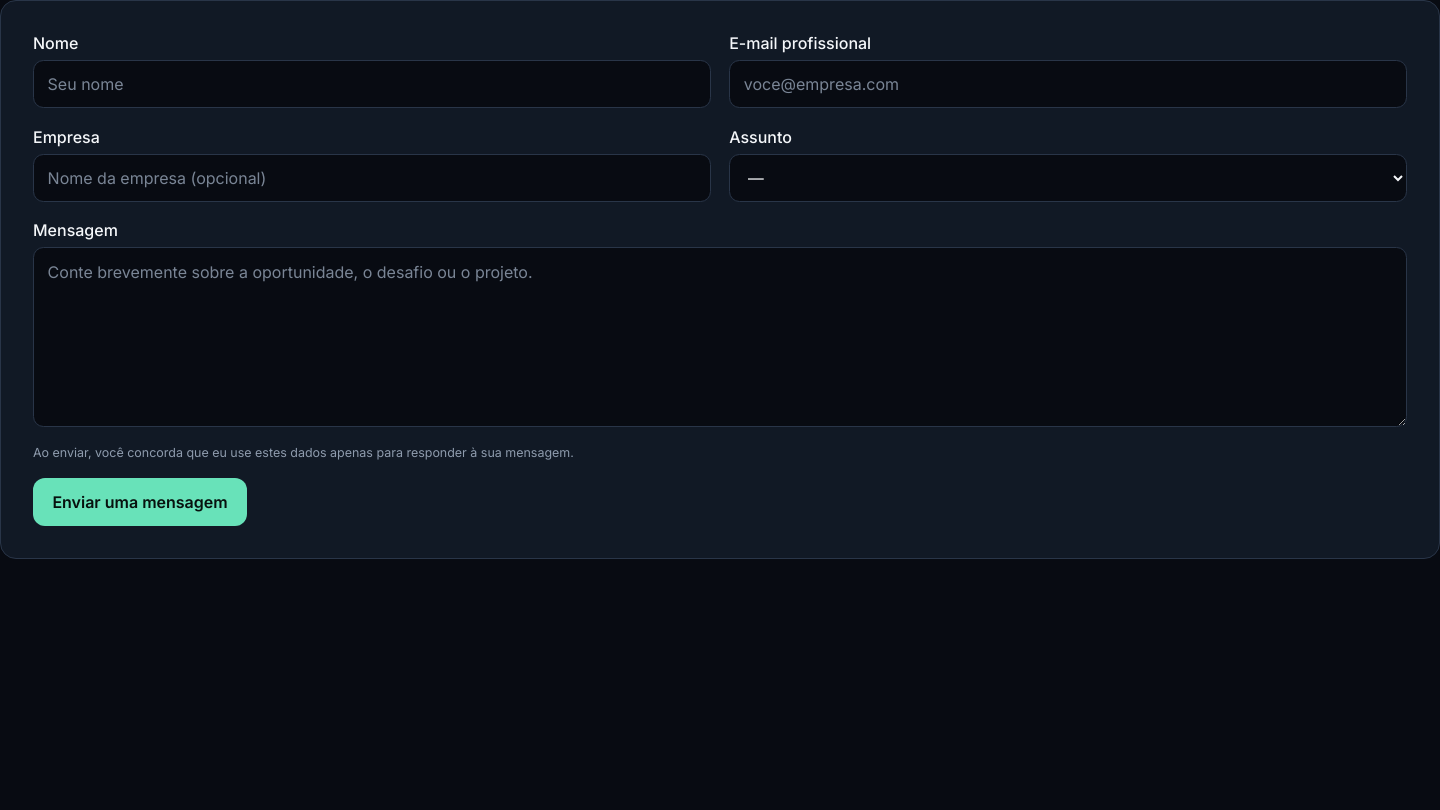
Test case: contact form states › shows an accessible summary and does not send invalid data
The image size is (1440, 810).
Click the button "Enviar uma mensagem" at coordinates (140, 502), box 33,478 -> 247,526
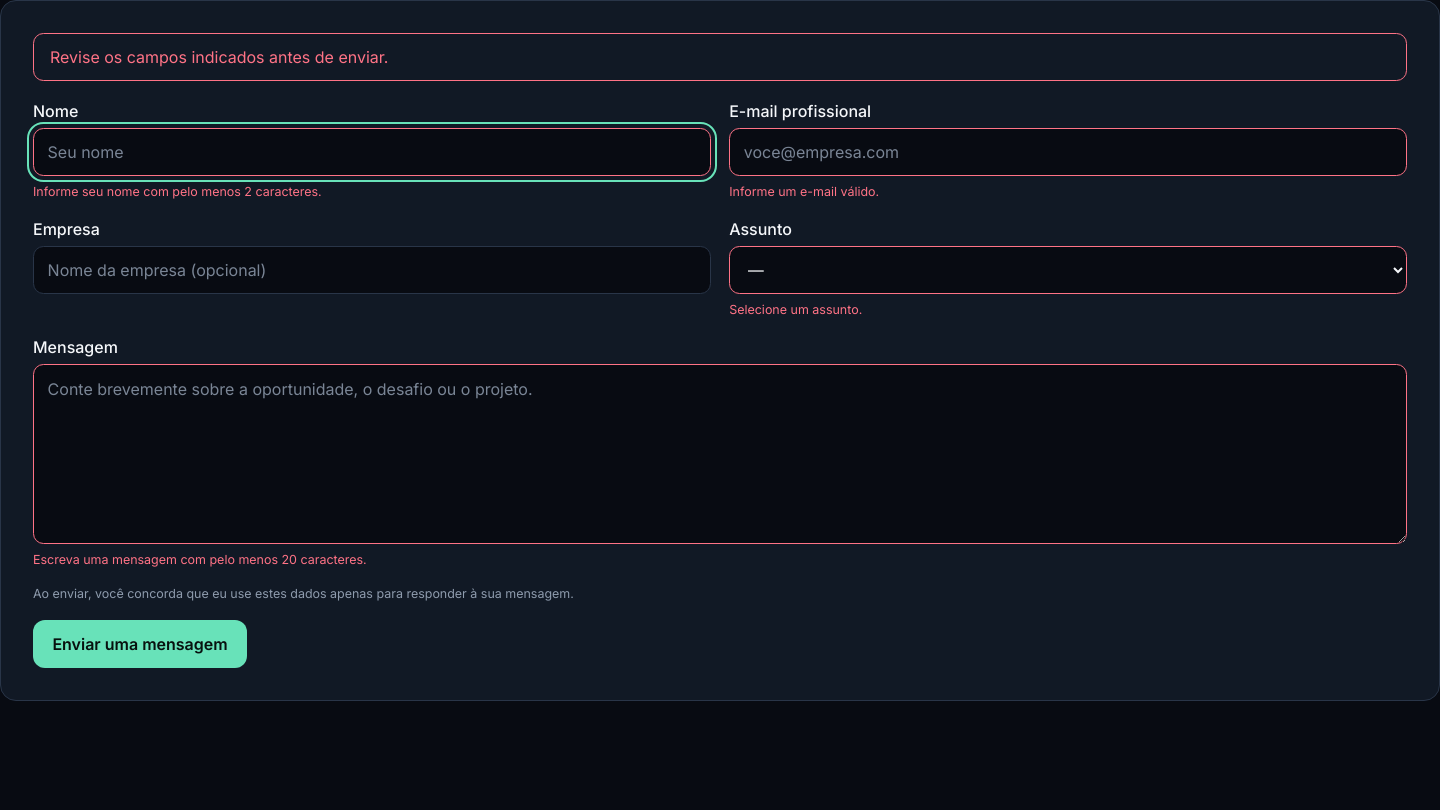
Now the message reads "Revise os campos indicados antes de enviar.", box 50,47 -> 388,67
